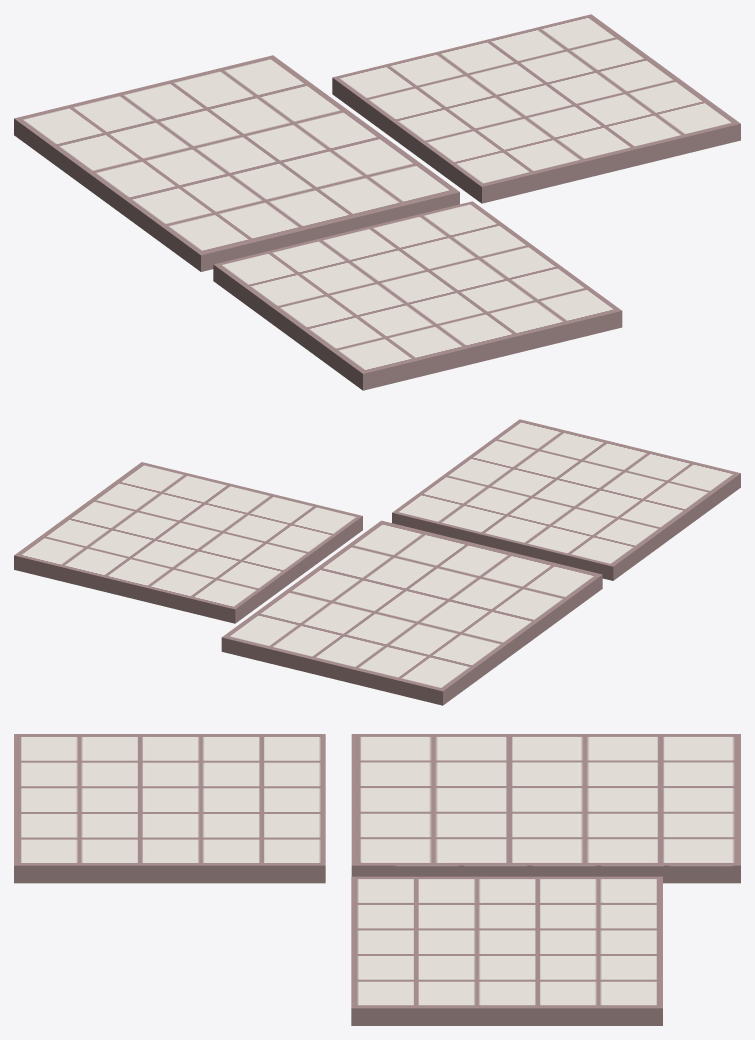
File: chao_casa_2.fbx
3 views of the same model, one above another, from view 1: azimuth 30°, elevation 25°; view 2: azimuth 150°, elevation 25°; view 3: azimuth 270°, elevation 25° (orthographic). The views are drawn at different scales.
Parts seen in each view (by area): view 1: polySurface265, polySurface264, polySurface272; view 2: polySurface265, polySurface272, polySurface264; view 3: polySurface265, polySurface264, polySurface272.
Boxes of the visible parts, x1=… form: polySurface265: x1=14, y1=55, x2=459, y2=271; polySurface264: x1=213, y1=201, x2=622, y2=390; polySurface272: x1=332, y1=14, x2=740, y2=203; polySurface265: x1=221, y1=520, x2=602, y2=705; polySurface272: x1=14, y1=462, x2=362, y2=623; polySurface264: x1=392, y1=419, x2=740, y2=580; polySurface265: x1=351, y1=734, x2=740, y2=883; polySurface264: x1=14, y1=734, x2=325, y2=883; polySurface272: x1=351, y1=876, x2=662, y2=1025.
Size of the model in its own units: 2.5 by 0.0742 by 2.8.
